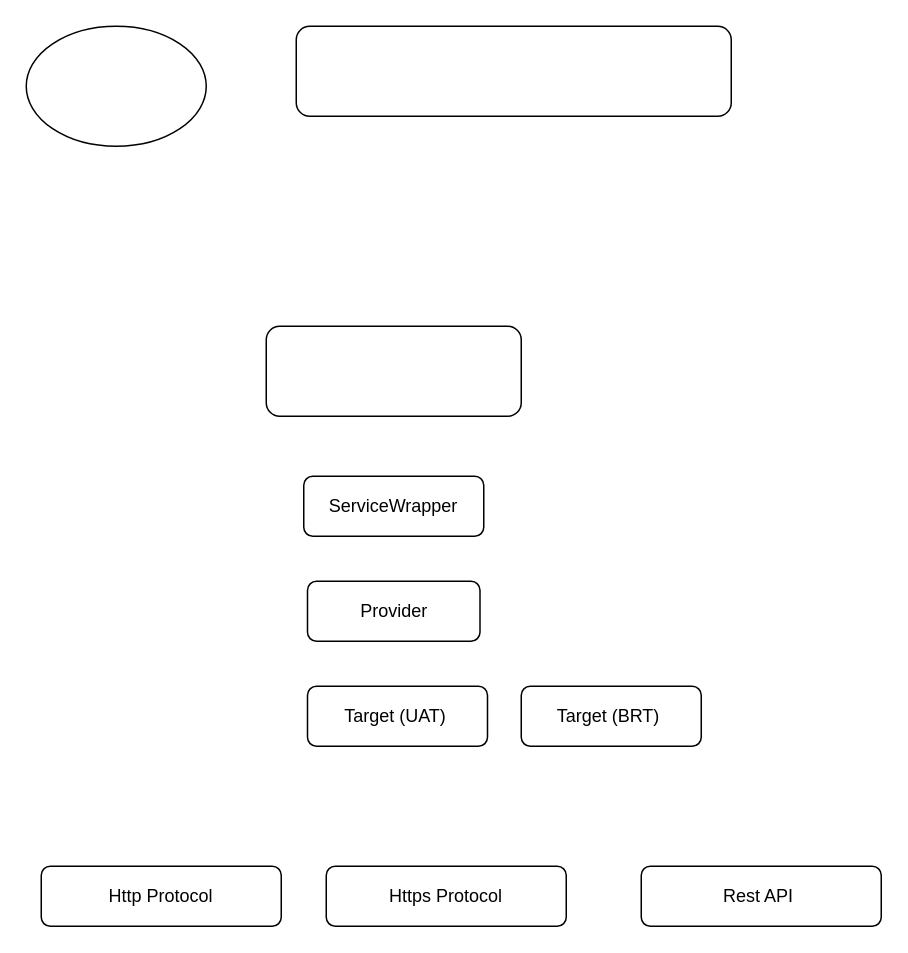
The diagram is 908 pixels wide and 953 high, and some of its shapes have lost their labels. Here are the shapes that lost their labels. From the top down, the box of each, then its label:
(25, 25, 206, 146): Network Manager
(295, 25, 731, 116): URLSession + Combine + Rest API + Codeable
(265, 325, 521, 416): SQM NetworkManager
